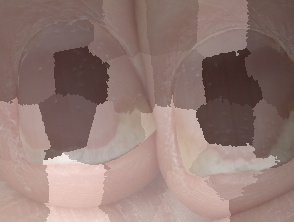Nail_psoriasis: (123, 35, 294, 222), (10, 5, 174, 179)
